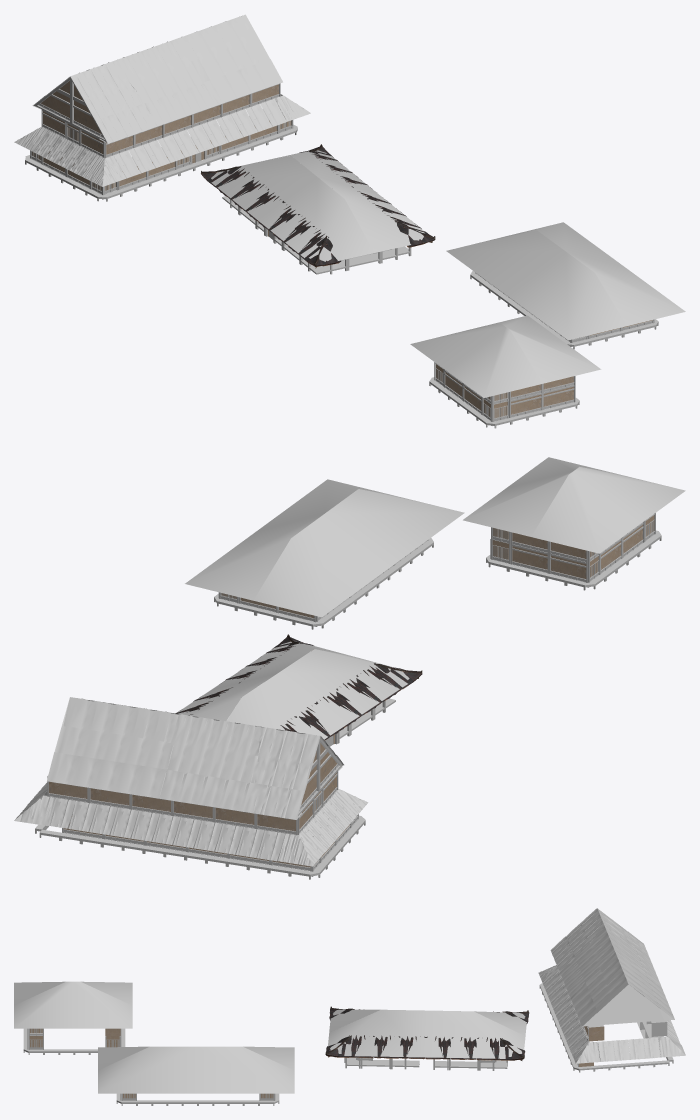
Rendered from right_houses_down.fbx.
3 renders of one model, top to bottom at view 1: azimuth 30°, elevation 25°; view 2: azimuth 150°, elevation 25°; view 3: azimuth 270°, elevation 25°, orthographic. The views are drawn at different scales.
Parts seen in each view (by area): view 1: mesh_92, mesh_128, mesh_94, mesh_91, mesh_147, mesh_176, mesh_126, mesh_124, mesh_175, mesh_24, mesh_5, mesh_67 (+6 smaller); view 2: mesh_92, mesh_128, mesh_91, mesh_94, mesh_147, mesh_176, mesh_175, mesh_22, mesh_126, mesh_124, mesh_64, mesh_166 (+6 smaller); view 3: mesh_176, mesh_92, mesh_126, mesh_175, mesh_91, mesh_124, mesh_5, mesh_128, mesh_147, mesh_94, mesh_131, mesh_96 (+5 smaller).
Part boxes in pixels (<box>): mesh_92: <box>32,14,282,143</box>; mesh_128: <box>446,230,626,340</box>; mesh_94: <box>211,156,374,261</box>; mesh_91: <box>14,94,310,186</box>; mesh_147: <box>410,323,542,397</box>; mesh_176: <box>506,222,685,325</box>; mesh_126: <box>265,150,424,252</box>; mesh_124: <box>201,144,435,268</box>; mesh_175: <box>470,315,601,383</box>; mesh_24: <box>92,83,280,158</box>; mesh_5: <box>34,77,271,142</box>; mesh_67: <box>103,128,296,201</box>; mesh_92: <box>47,697,343,819</box>; mesh_128: <box>253,489,464,617</box>; mesh_91: <box>14,782,368,866</box>; mesh_94: <box>226,649,409,739</box>; mesh_147: <box>531,466,685,553</box>; mesh_176: <box>185,479,393,600</box>; mesh_175: <box>463,457,615,536</box>; mesh_22: <box>47,776,297,835</box>; mesh_126: <box>177,641,351,721</box>; mesh_124: <box>175,634,422,740</box>; mesh_64: <box>39,829,312,879</box>; mesh_166: <box>510,544,587,582</box>; mesh_176: <box>98,1046,294,1093</box>; mesh_92: <box>550,908,674,1026</box>; mesh_126: <box>328,1009,525,1058</box>; mesh_175: <box>14,981,132,1028</box>; mesh_91: <box>538,965,685,1063</box>; mesh_124: <box>325,1006,529,1060</box>; mesh_5: <box>559,912,673,1026</box>; mesh_128: <box>98,1046,294,1070</box>; mesh_147: <box>14,981,132,1005</box>; mesh_94: <box>329,1009,526,1035</box>; mesh_131: <box>121,1100,274,1105</box>; mesh_96: <box>433,1059,507,1070</box>.
Size of the model in its own units: 2404 by 767 by 5286.
